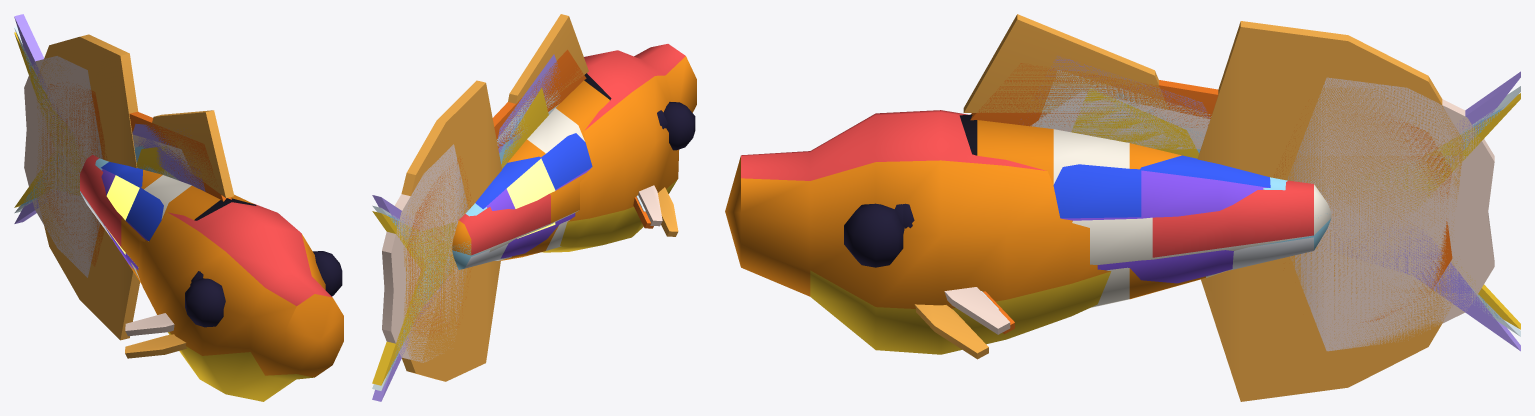
File: fish-kit.glb
The picture shows the model from 3 angles, left to right: view 1: azimuth 30°, elevation 25°; view 2: azimuth 150°, elevation 25°; view 3: azimuth 270°, elevation 25°; orthographic projection. The views are drawn at different scales.
Visible parts, largest first — view 1: Fish_Gold Mesh, Fish_Koi Mesh, Fish_Clown Mesh, Fish_Moon Mesh, Fish_Minnow Mesh, Fish_Ice Mesh, Fish_Neon Mesh; view 2: Fish_Gold Mesh, Fish_Koi Mesh, Fish_Clown Mesh, Fish_Moon Mesh, Fish_Minnow Mesh, Fish_Ice Mesh, Fish_Neon Mesh; view 3: Fish_Gold Mesh, Fish_Koi Mesh, Fish_Moon Mesh, Fish_Clown Mesh, Fish_Ice Mesh, Fish_Minnow Mesh.
Part boxes in pixels (x1=…): Fish_Gold Mesh: x1=36, y1=34, x2=343, y2=401; Fish_Koi Mesh: x1=24, y1=56, x2=194, y2=336; Fish_Clown Mesh: x1=42, y1=82, x2=256, y2=283; Fish_Moon Mesh: x1=14, y1=14, x2=205, y2=284; Fish_Minnow Mesh: x1=14, y1=32, x2=173, y2=207; Fish_Ice Mesh: x1=14, y1=26, x2=179, y2=238; Fish_Neon Mesh: x1=20, y1=44, x2=167, y2=206; Fish_Gold Mesh: x1=401, y1=14, x2=696, y2=381; Fish_Koi Mesh: x1=382, y1=126, x2=664, y2=362; Fish_Clown Mesh: x1=407, y1=49, x2=667, y2=337; Fish_Moon Mesh: x1=372, y1=54, x2=665, y2=401; Fish_Minnow Mesh: x1=372, y1=87, x2=548, y2=385; Fish_Ice Mesh: x1=372, y1=87, x2=645, y2=390; Fish_Neon Mesh: x1=387, y1=104, x2=528, y2=373; Fish_Gold Mesh: x1=725, y1=14, x2=1464, y2=401; Fish_Koi Mesh: x1=908, y1=77, x2=1494, y2=351; Fish_Moon Mesh: x1=902, y1=56, x2=1520, y2=351; Fish_Clown Mesh: x1=894, y1=63, x2=1452, y2=333; Fish_Ice Mesh: x1=981, y1=70, x2=1520, y2=336; Fish_Minnow Mesh: x1=1071, y1=89, x2=1520, y2=329.
Size of the model in its own units: 0.3827 by 0.53 by 1.
